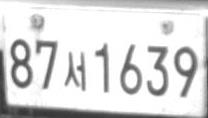1: (92, 42, 115, 93)
3: (146, 45, 168, 96)
6: (120, 44, 142, 95)
7: (35, 40, 58, 90)
8: (9, 38, 33, 89)
9: (173, 45, 198, 97)
서: (63, 52, 87, 91)
